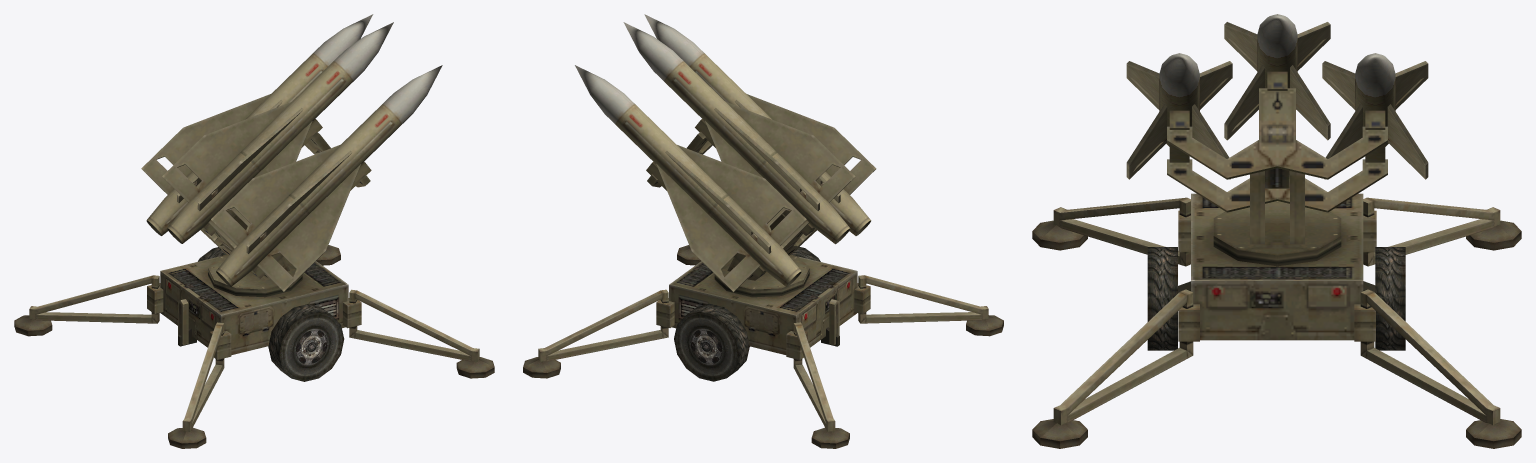
The model's file is ExMsl.glb.
The picture shows the model from 3 angles, left to right: view 1: azimuth 30°, elevation 25°; view 2: azimuth 150°, elevation 25°; view 3: azimuth 270°, elevation 25°; orthographic projection. The views are drawn at different scales.
Parts seen in each view (by area): view 1: _ExMsl; view 2: _ExMsl; view 3: _ExMsl.
Boxes of the visible parts, left/top/right/bottom form: _ExMsl: left=14, top=14, right=494, bottom=448; _ExMsl: left=523, top=14, right=1003, bottom=448; _ExMsl: left=1032, top=14, right=1521, bottom=448.
Bounding box in the file's own units: 4.92 × 4.27 × 4.59.
2 materials, 2 textured.
